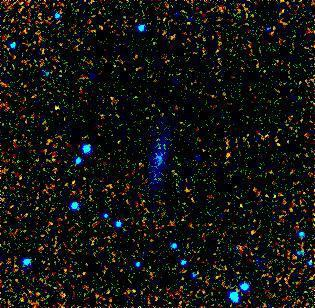star: (41, 93, 71, 123)
